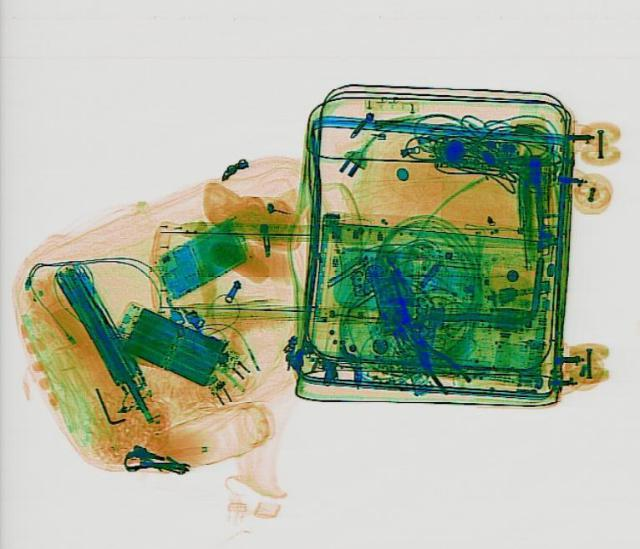Pliers: (396, 322, 474, 395)
